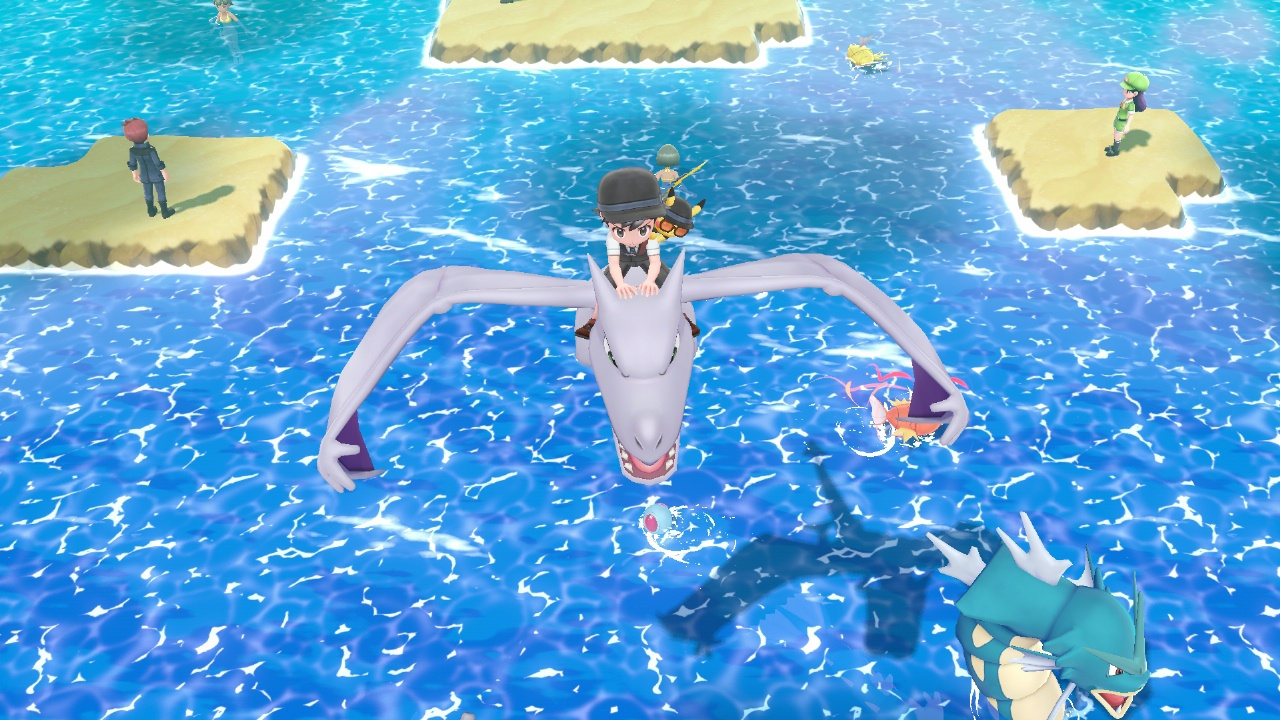Golden: (846, 34, 886, 69)
